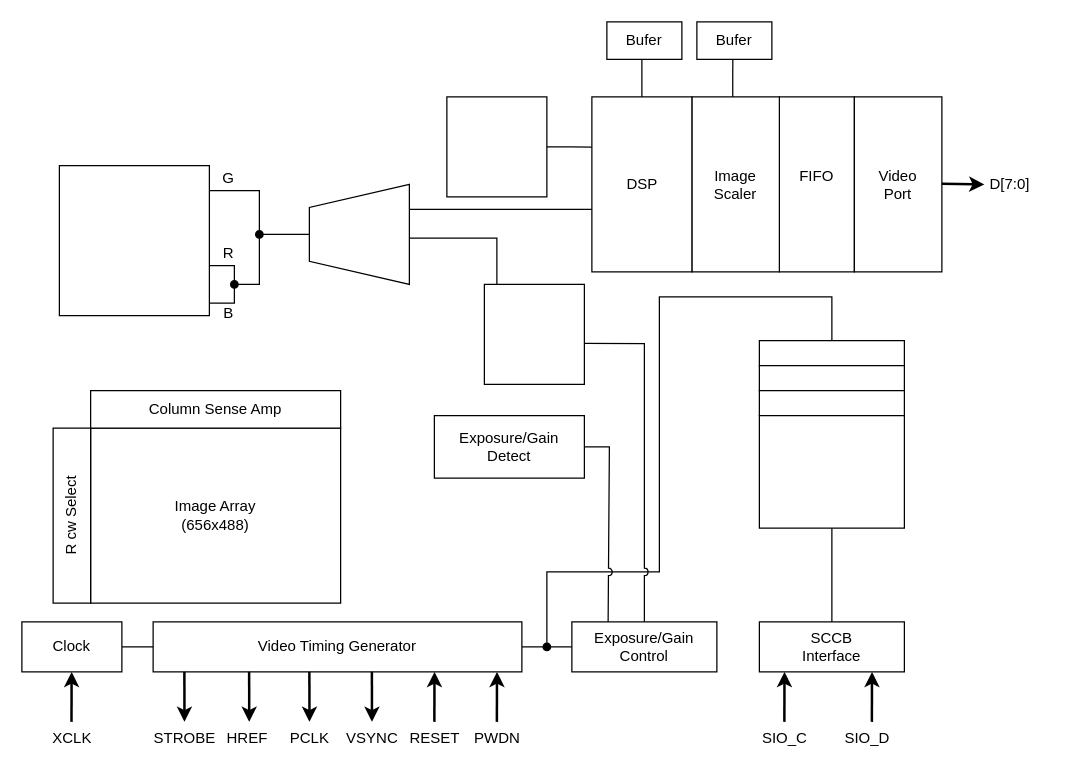
This 1069x779 diagram has some shape labels left out. Here are the shapes that lost their labels. From the top down, the centre of each, then its label:
At (496,146): "Test Pattern GEnerator".
At (133,240): "Analog Processing".
At (358,233): "A/D".
At (533,333): "50/60 Hz Auto Detect".
At (831,471): ". . . Registers".
